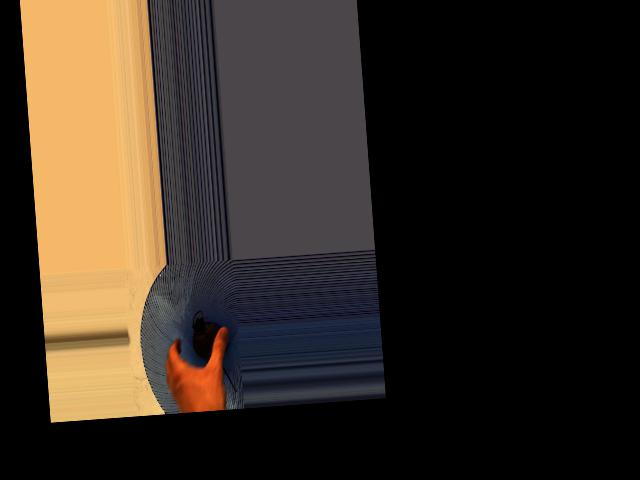beet: (190, 307, 236, 394)
